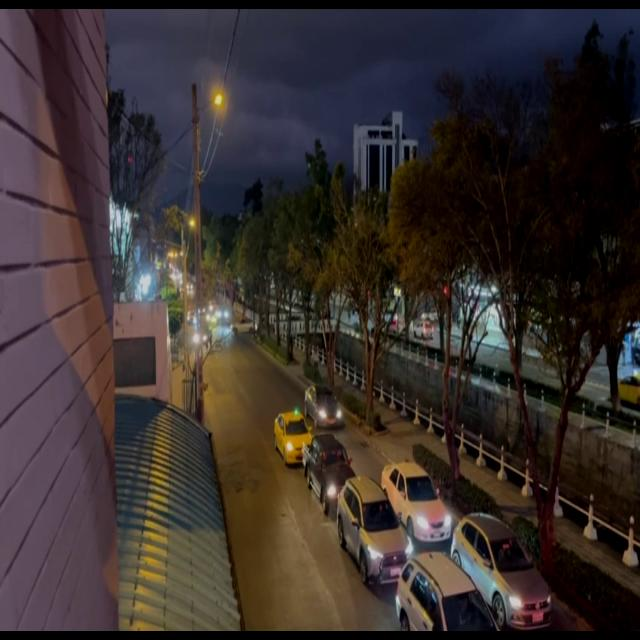CMT: (309, 442, 353, 514)
SUV: (399, 555, 485, 638), (307, 385, 342, 428)
